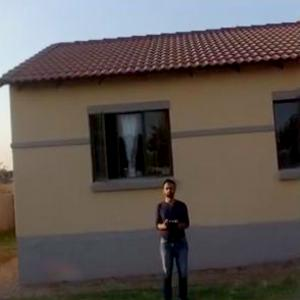follow: (152, 171, 195, 299)
